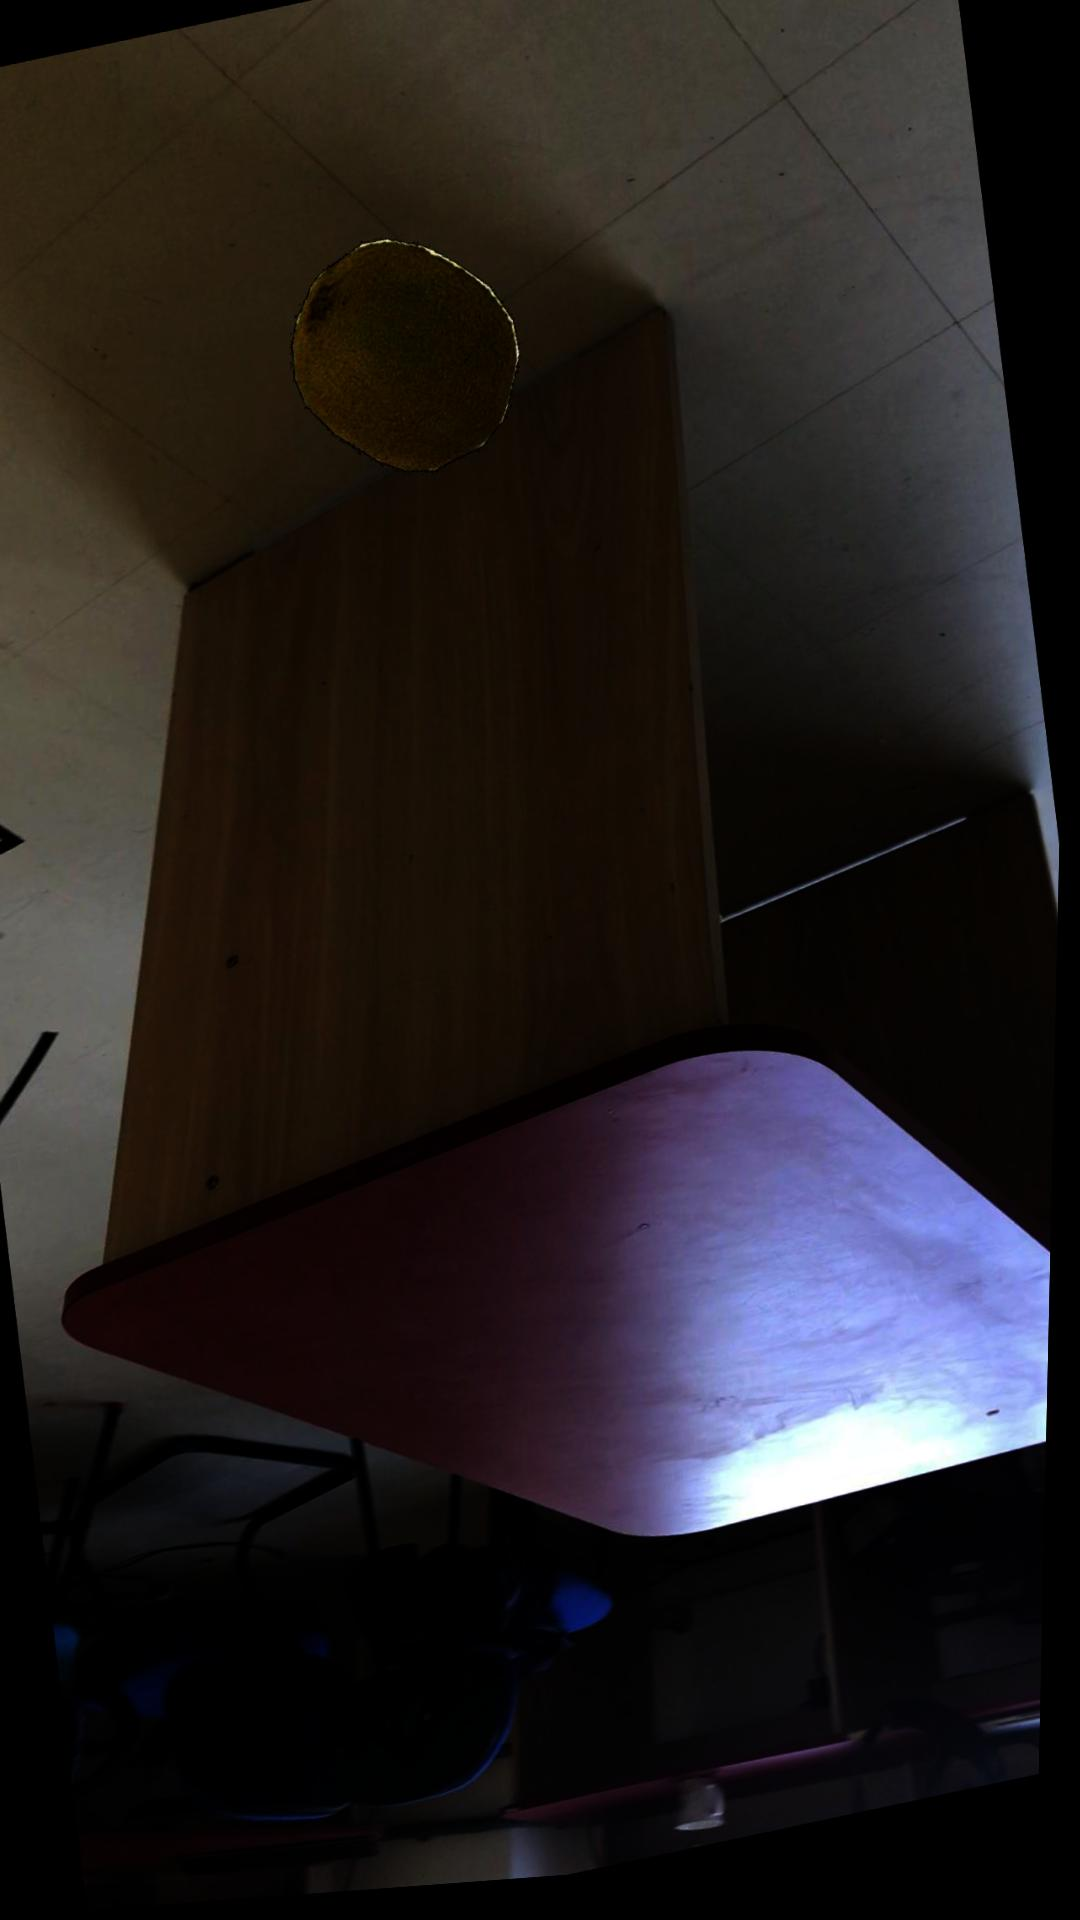kiwi: (290, 245, 521, 481)
